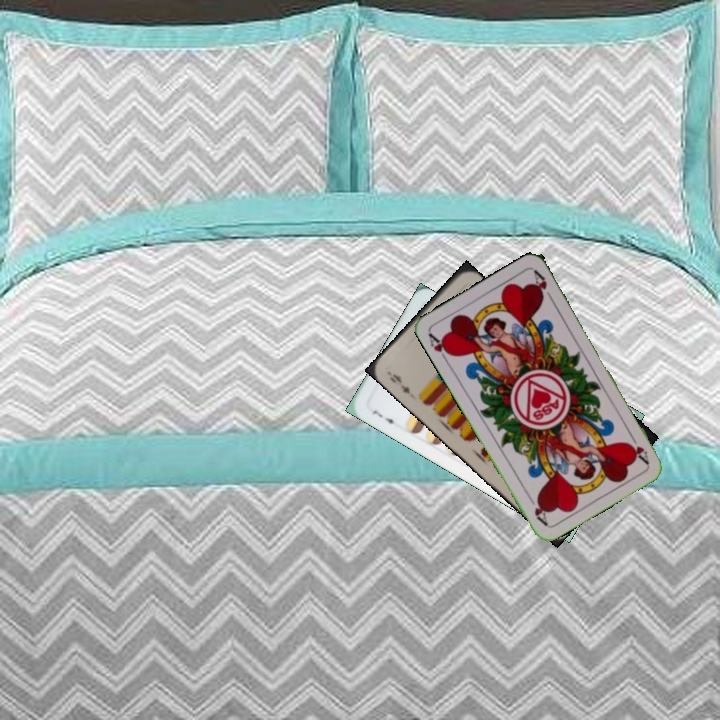E7: (368, 406, 400, 429)
E9: (384, 368, 413, 396)
HA: (424, 328, 455, 365), (625, 429, 651, 466)
